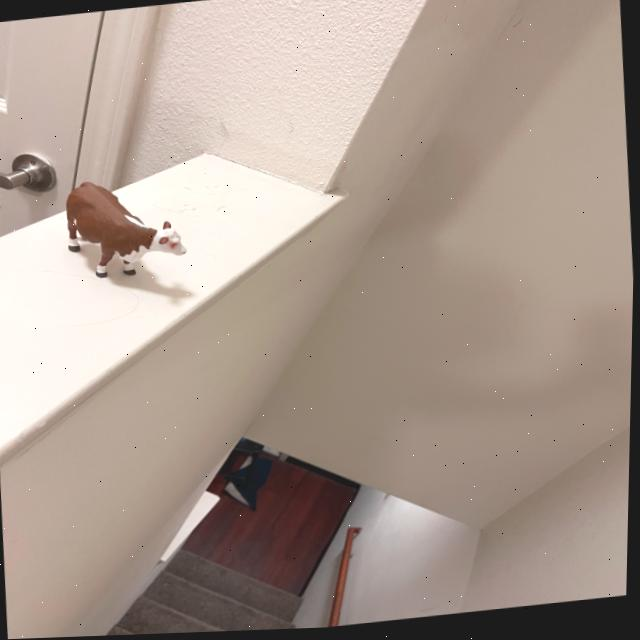cow: (42, 175, 195, 308)
